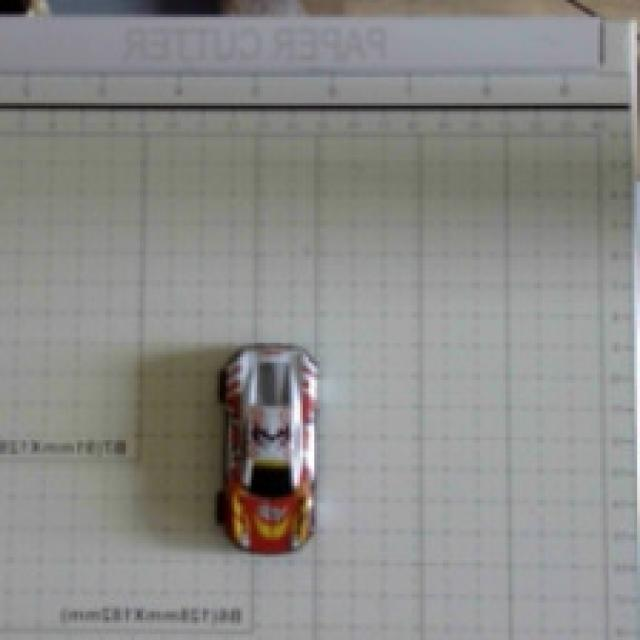Red Car: (194, 288, 381, 590)
